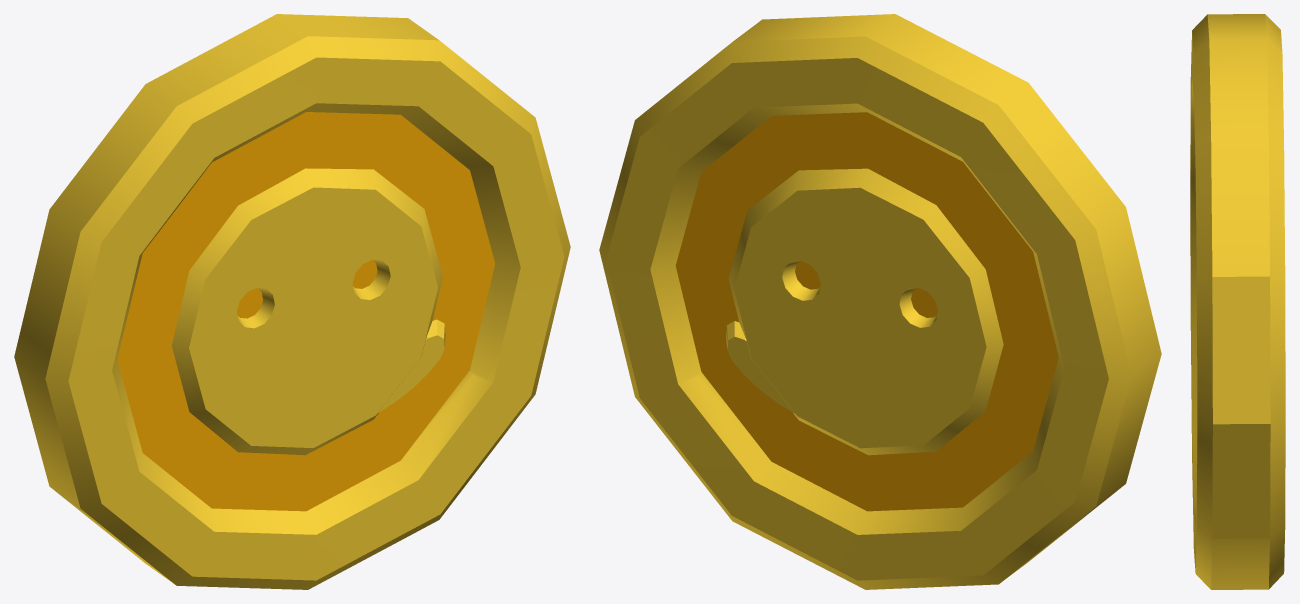
The model's file is Coin.fbx.
The picture shows the model from 3 angles, left to right: view 1: azimuth 30°, elevation 25°; view 2: azimuth 150°, elevation 25°; view 3: azimuth 270°, elevation 25°; orthographic projection. The views are drawn at different scales.
Parts seen in each view (by area): view 1: Coin; view 2: Coin; view 3: Coin.
Part boxes in pixels (box(x1,y1,x2,y2)): Coin: box(14, 14, 570, 589); Coin: box(599, 14, 1161, 589); Coin: box(1190, 14, 1285, 589).
Size of the model in its own units: 48.75 by 8.04 by 48.7.
